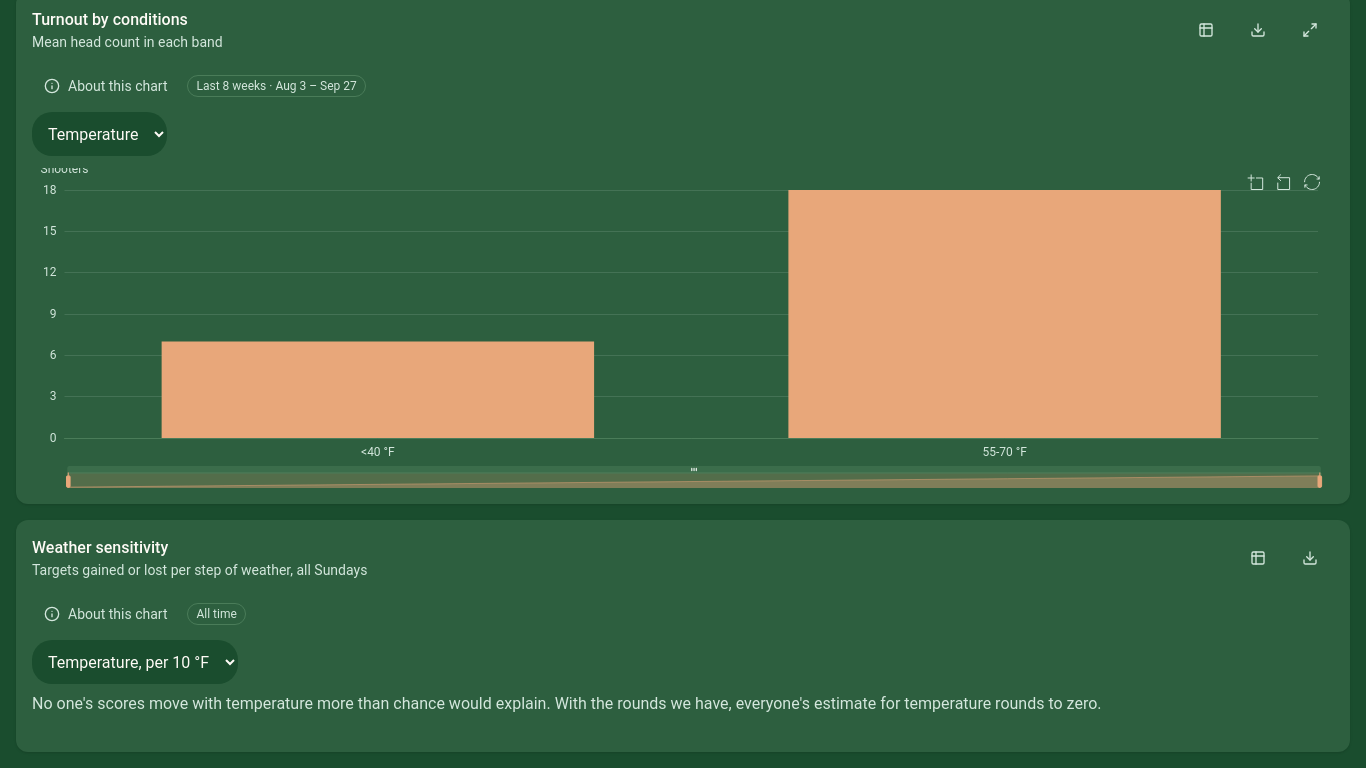
Test: WeatherPage › shows a plain note instead of bars when a measure has no spread, and keeps the picker
The image size is (1366, 768).
(page scrolled)
Expected: the text "everyone's estimate for temperature rounds to zero" is shown, x1=32 y1=694 x2=1102 y2=713
Expected: the button named "CSV" in the row of "Weather sensitivity" is shown, x1=1286 y1=536 x2=1334 y2=580
Click the button named "Table" in the row of "Weather sensitivity" at (1258, 558), box x1=1234 y1=536 x2=1282 y2=580
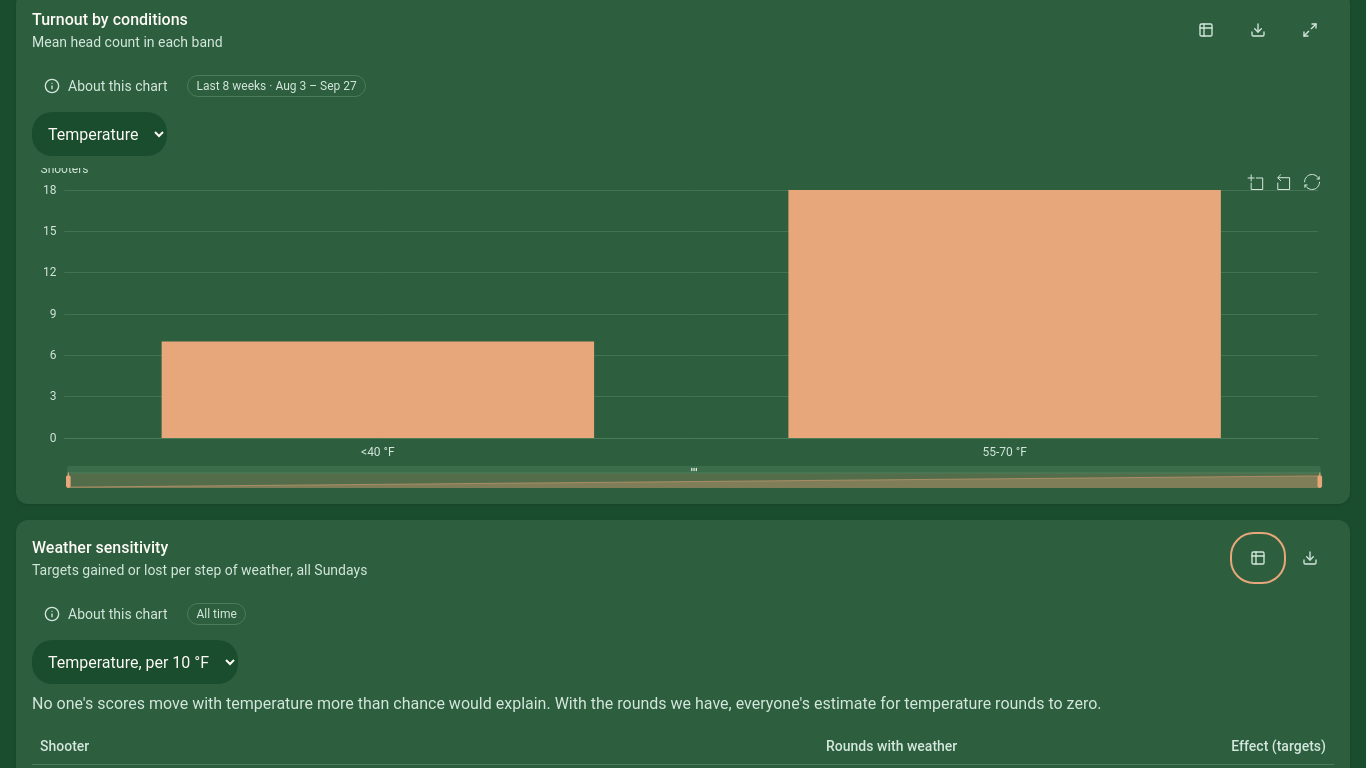
Expected: the number of rows is 3
Select "Gusts, per 10 mph" in the dropdown named "Sensitivity to" at (135, 662), box x1=32 y1=640 x2=238 y2=684
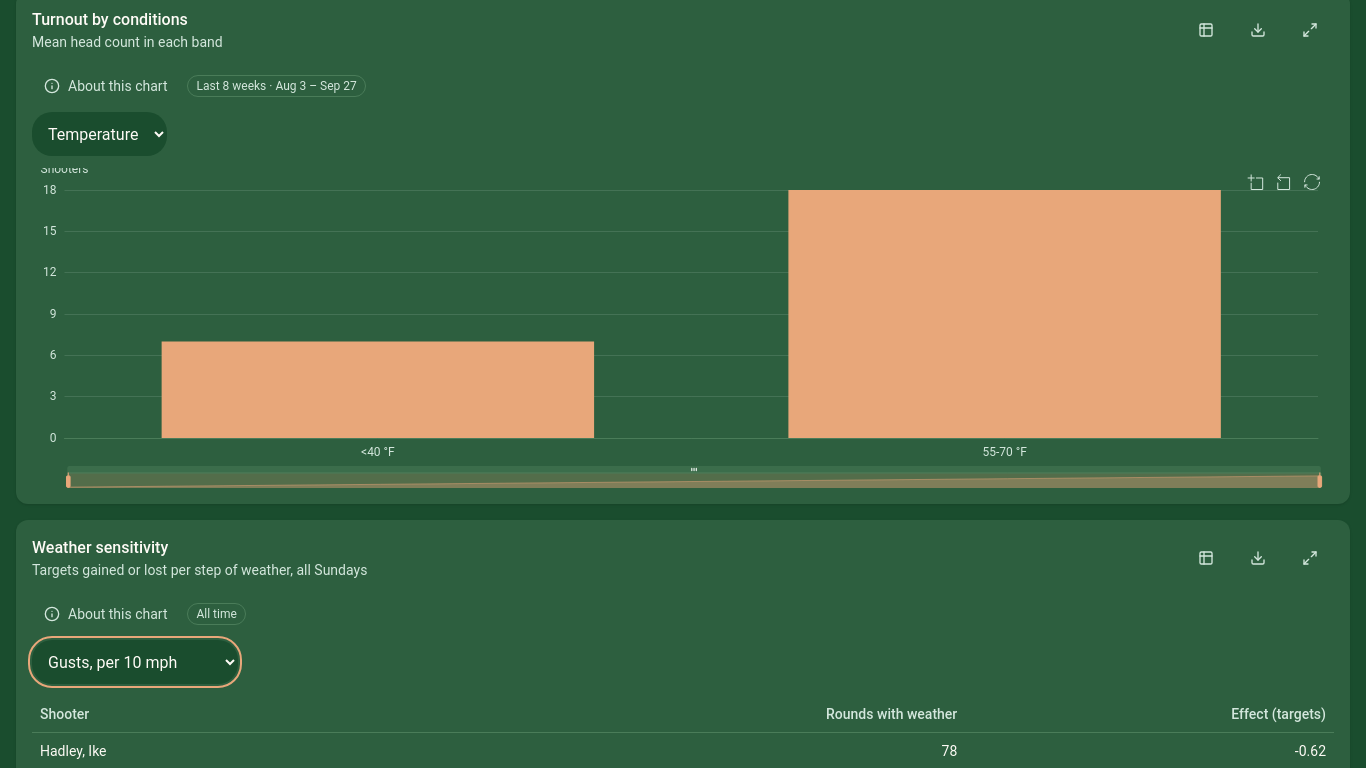
Expected: the text "No one's scores move" is gone
Expected: the button named "Fullscreen" in the row of "Weather sensitivity" is shown, x1=1286 y1=536 x2=1334 y2=580
